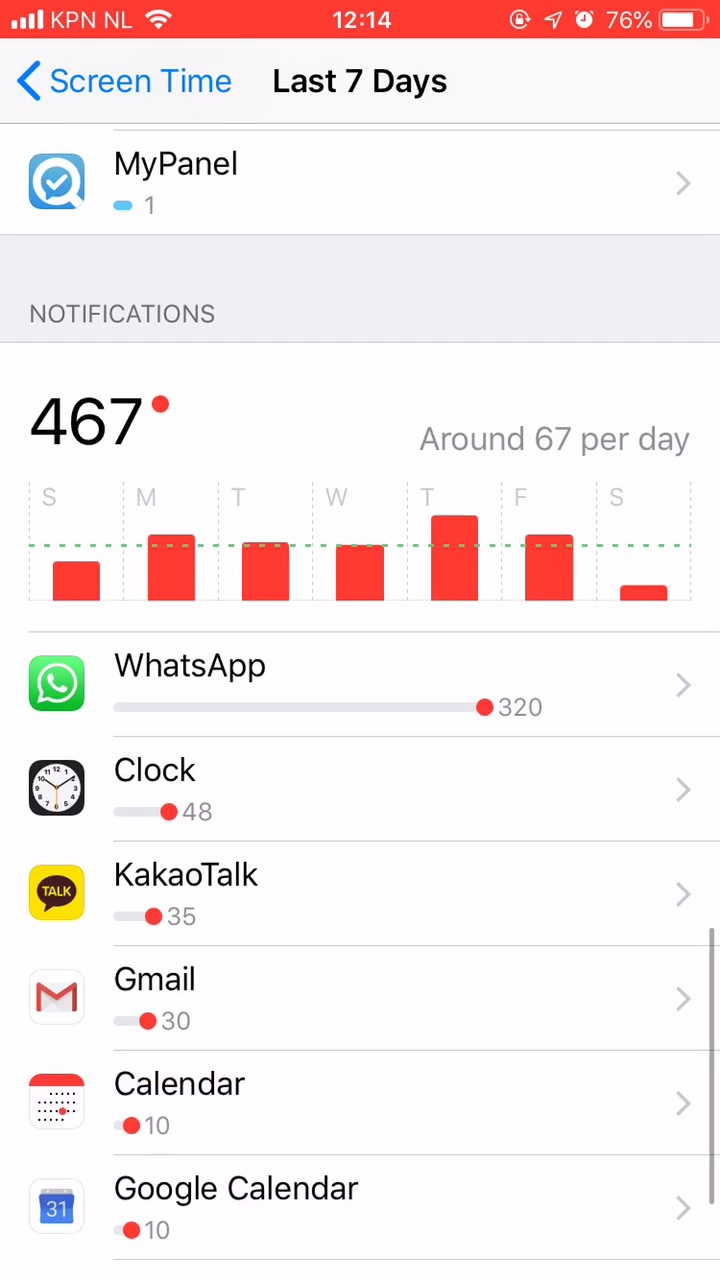not_app: (15, 635, 593, 735), (18, 1152, 454, 1258), (17, 739, 376, 839), (20, 842, 364, 946), (14, 1057, 361, 1153), (17, 947, 328, 1053)
not_over: (18, 266, 289, 469)
pick_app: (12, 121, 411, 224)
week: (262, 50, 456, 105)
